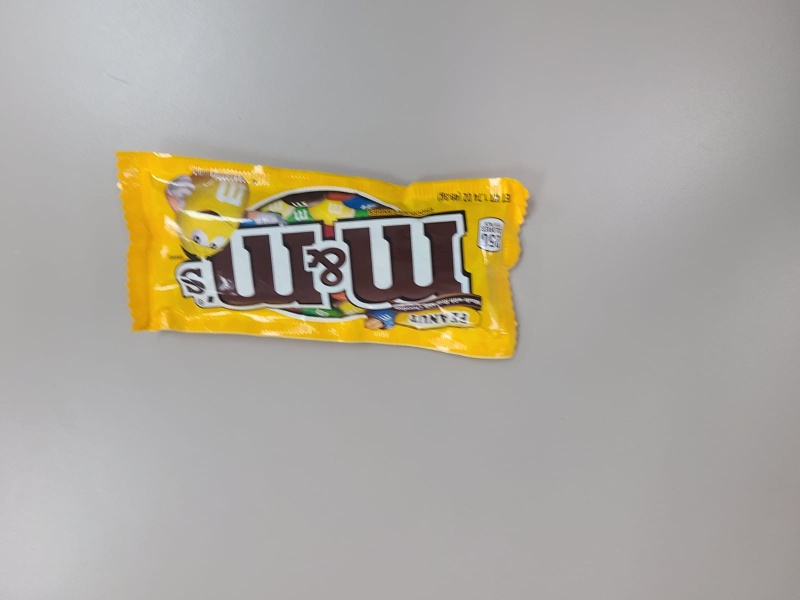m&m: (112, 147, 532, 363)
